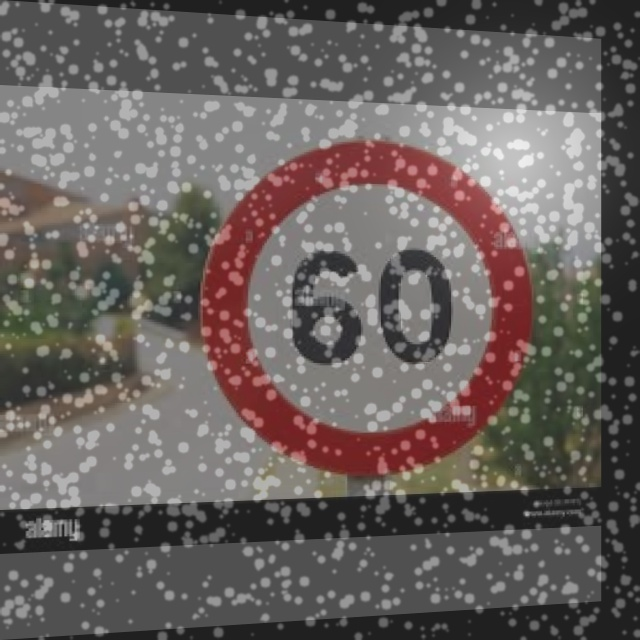Speed_Limit_60: (205, 135, 529, 467)
